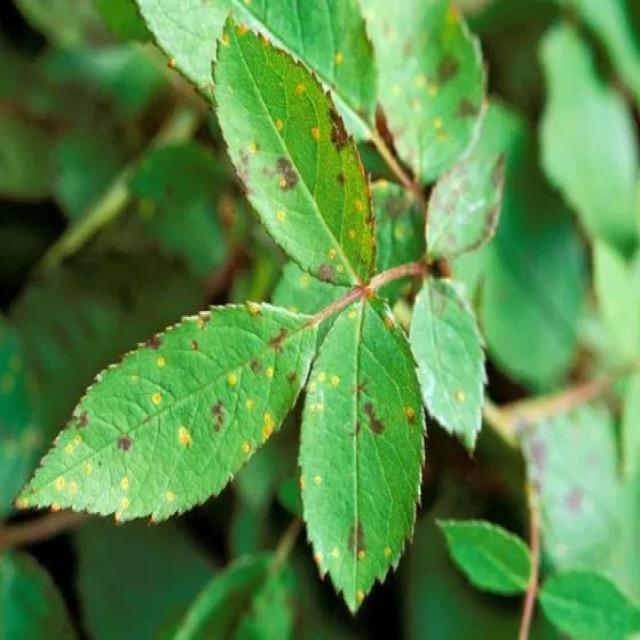leaf_spot: (18, 303, 316, 520), (213, 17, 374, 285), (300, 297, 424, 611)
